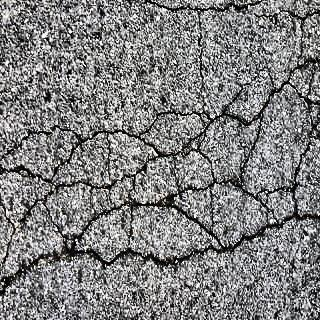alligator-crack: (4, 79, 320, 291)
crack: (284, 6, 320, 69), (152, 1, 277, 16), (197, 16, 210, 88)
